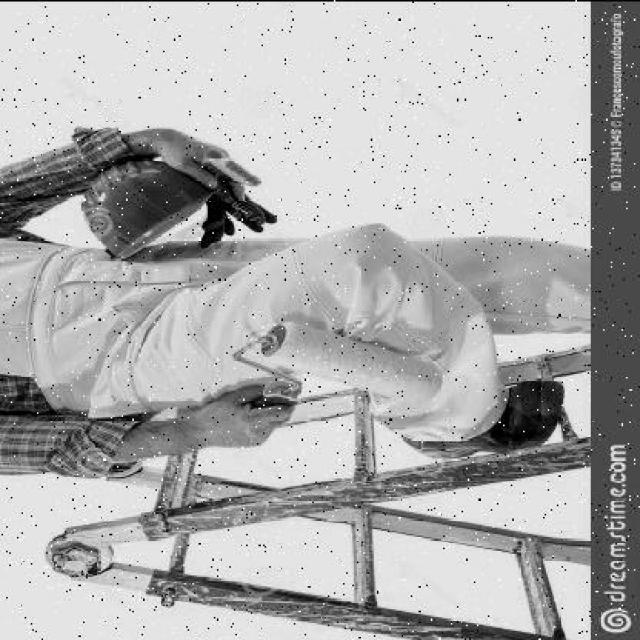shoes: (404, 373, 562, 456)
